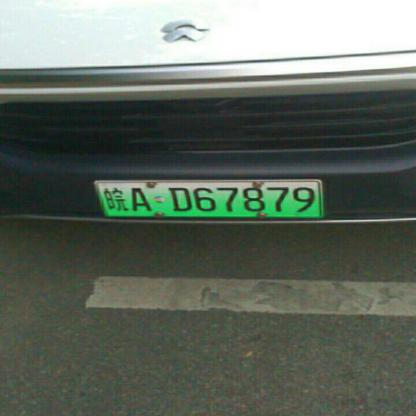lp: (96, 180, 322, 217)
